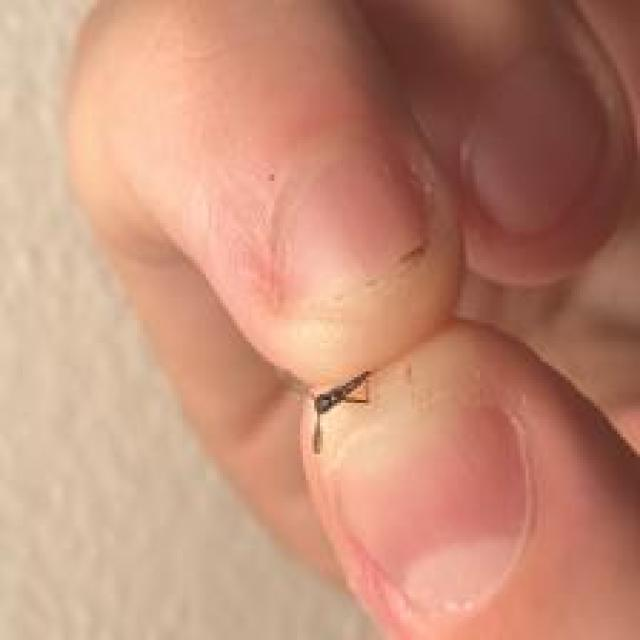Aedes albopictus: (307, 369, 373, 454)
